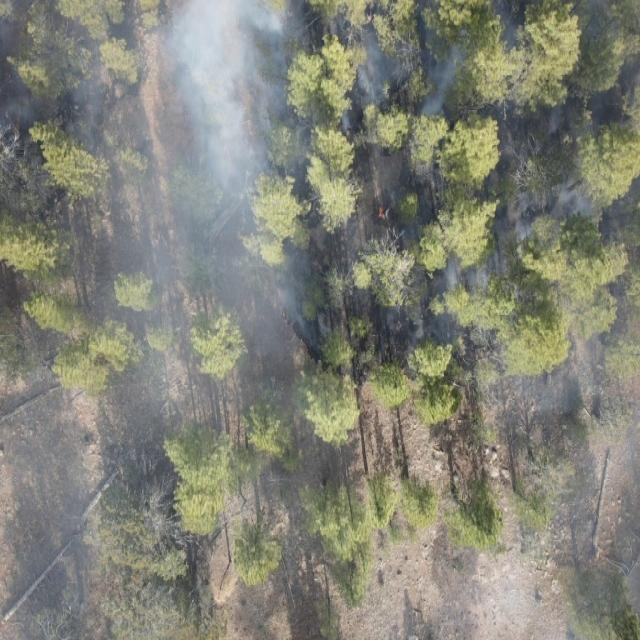fire: (377, 206, 388, 220)
smoke: (0, 0, 318, 640), (428, 154, 640, 410), (334, 0, 640, 154), (523, 410, 640, 640)
